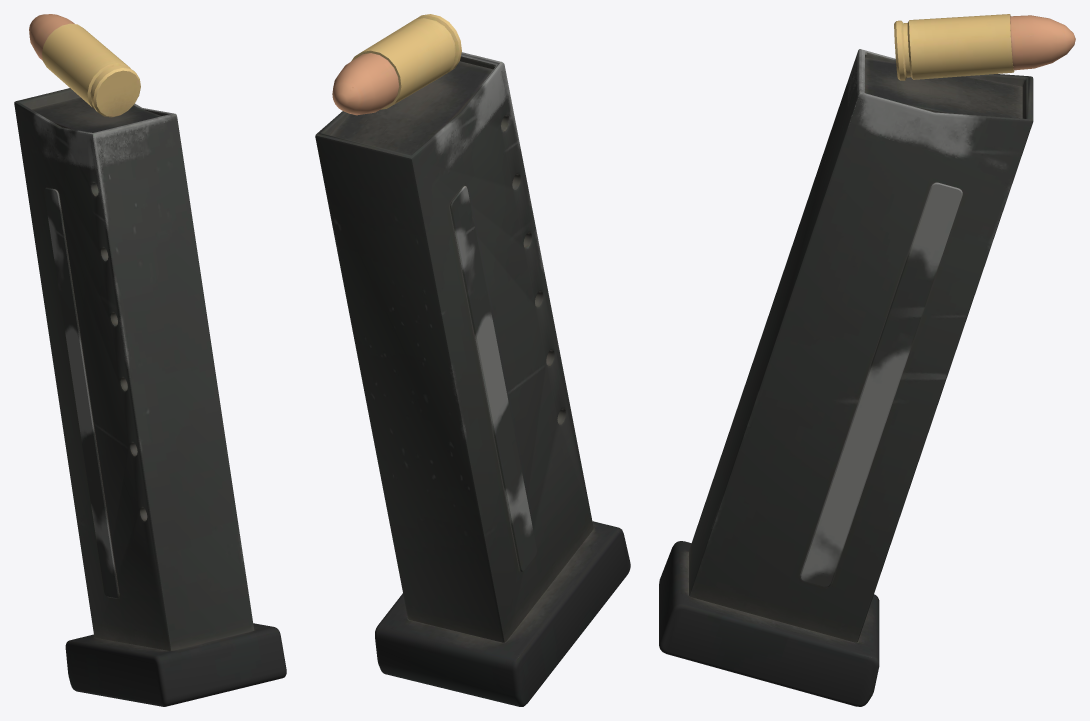
File: carregador_9mm.glb
3 renders of one model, left to right at view 1: azimuth 30°, elevation 25°; view 2: azimuth 150°, elevation 25°; view 3: azimuth 270°, elevation 25°, orthographic. The views are drawn at different scales.
Visible parts, largest first — view 1: carregador_9mm_carregador; view 2: carregador_9mm_carregador; view 3: carregador_9mm_carregador.
Part boxes in pixels (x1,y1,x2,y2): carregador_9mm_carregador: (14, 14, 286, 706); carregador_9mm_carregador: (315, 14, 630, 706); carregador_9mm_carregador: (659, 14, 1075, 706).
Size of the model in its own units: 0.0256 by 0.1193 by 0.0685.
1 material, 1 textured.
